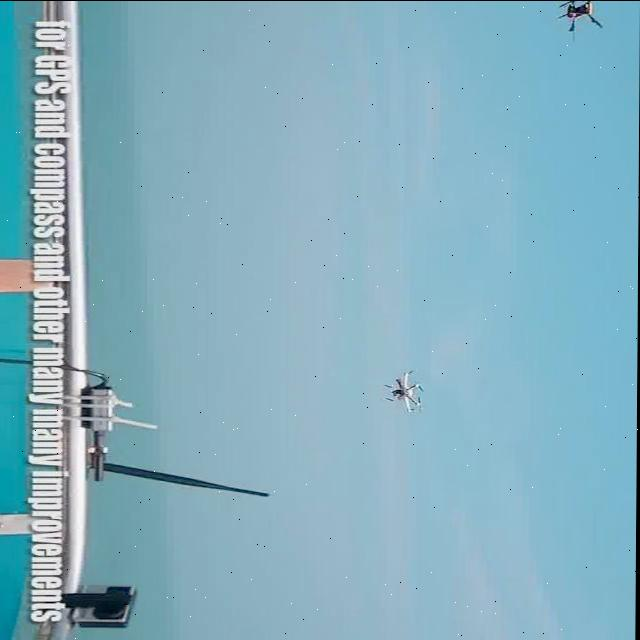drone: (555, 0, 613, 34)
